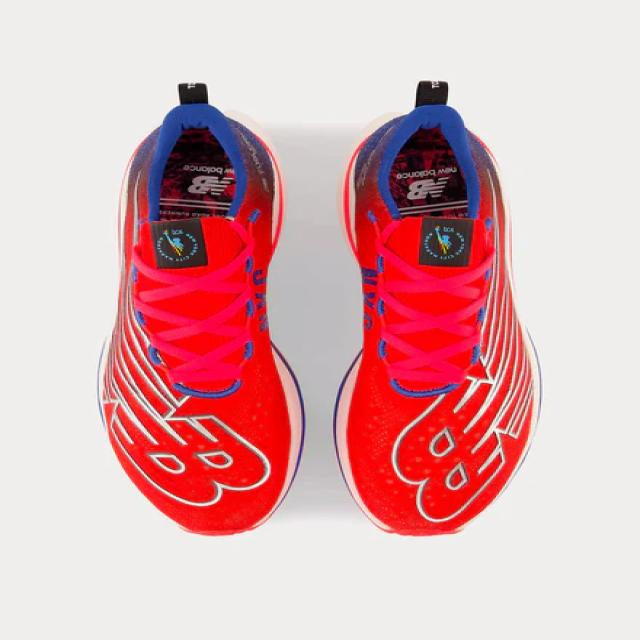NB logo: (368, 149, 547, 533), (98, 181, 286, 524)
